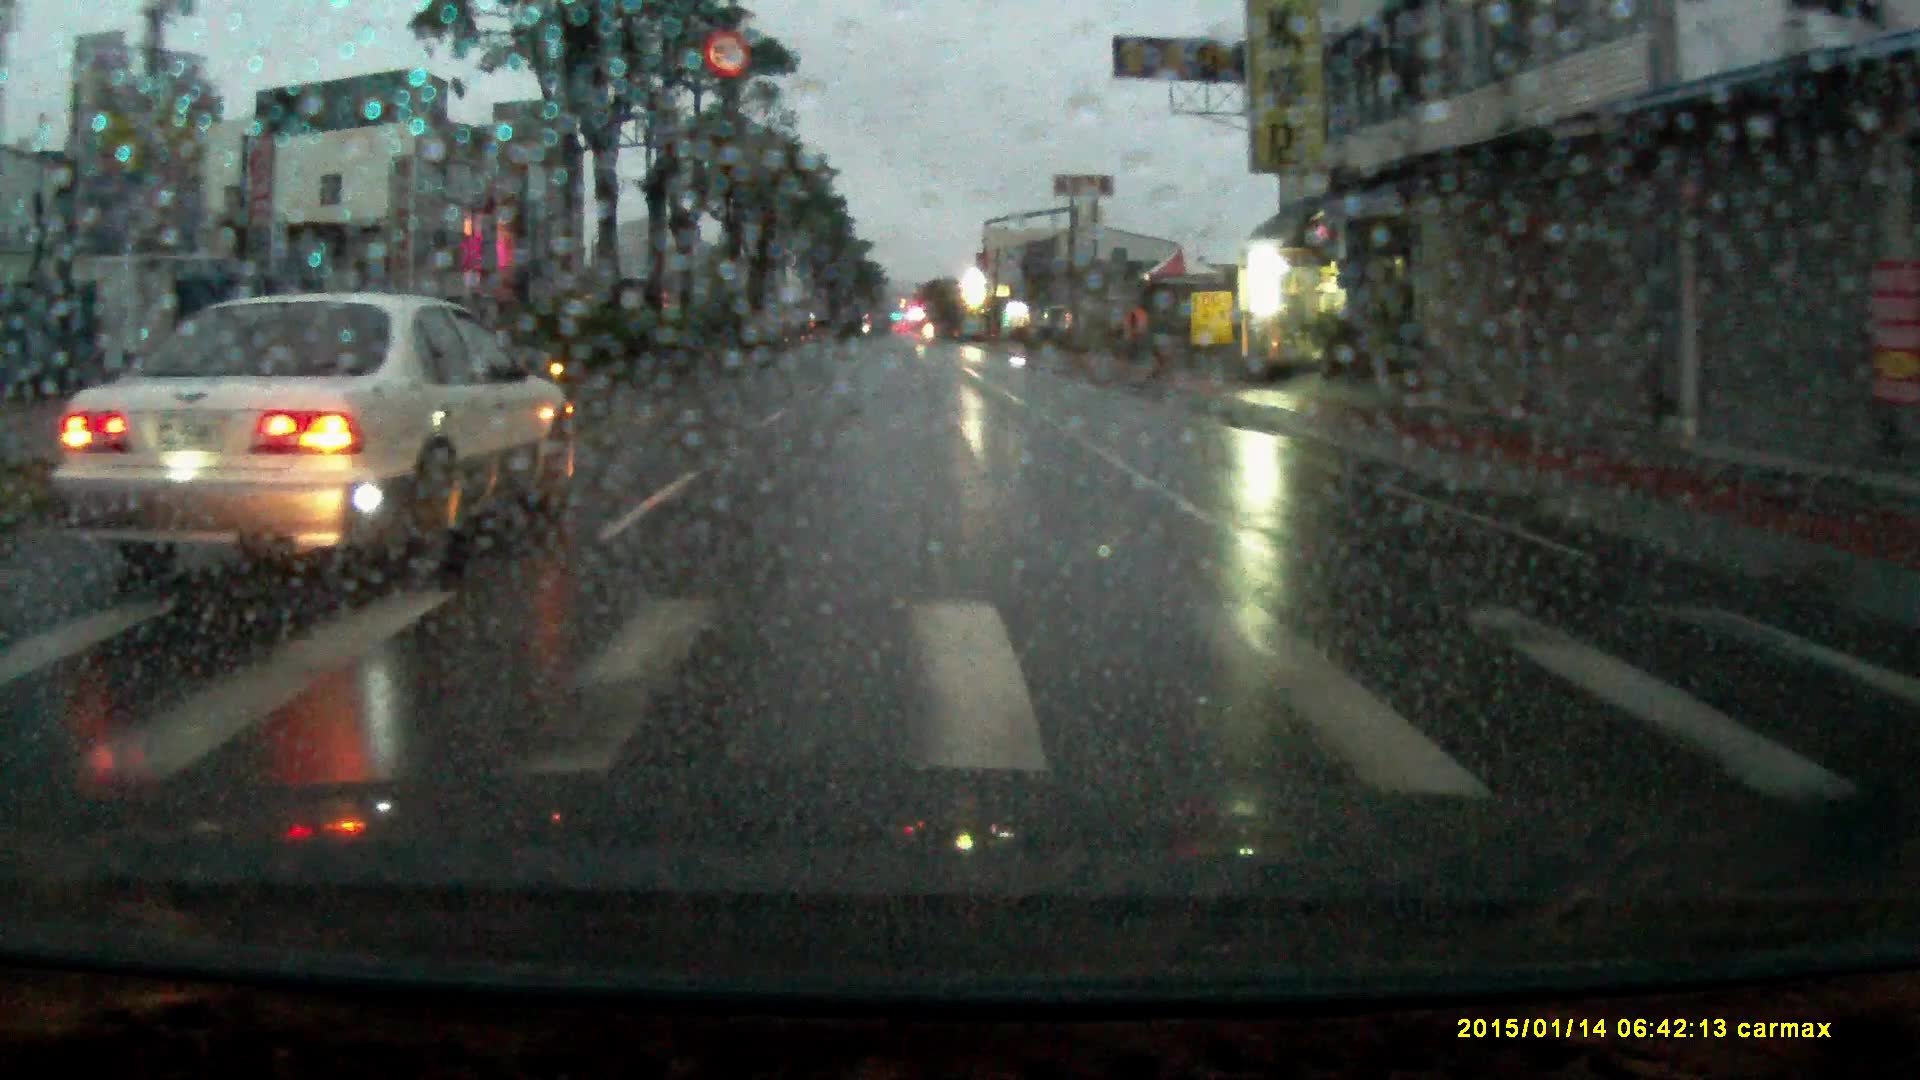vehicle: (46, 284, 566, 578)
